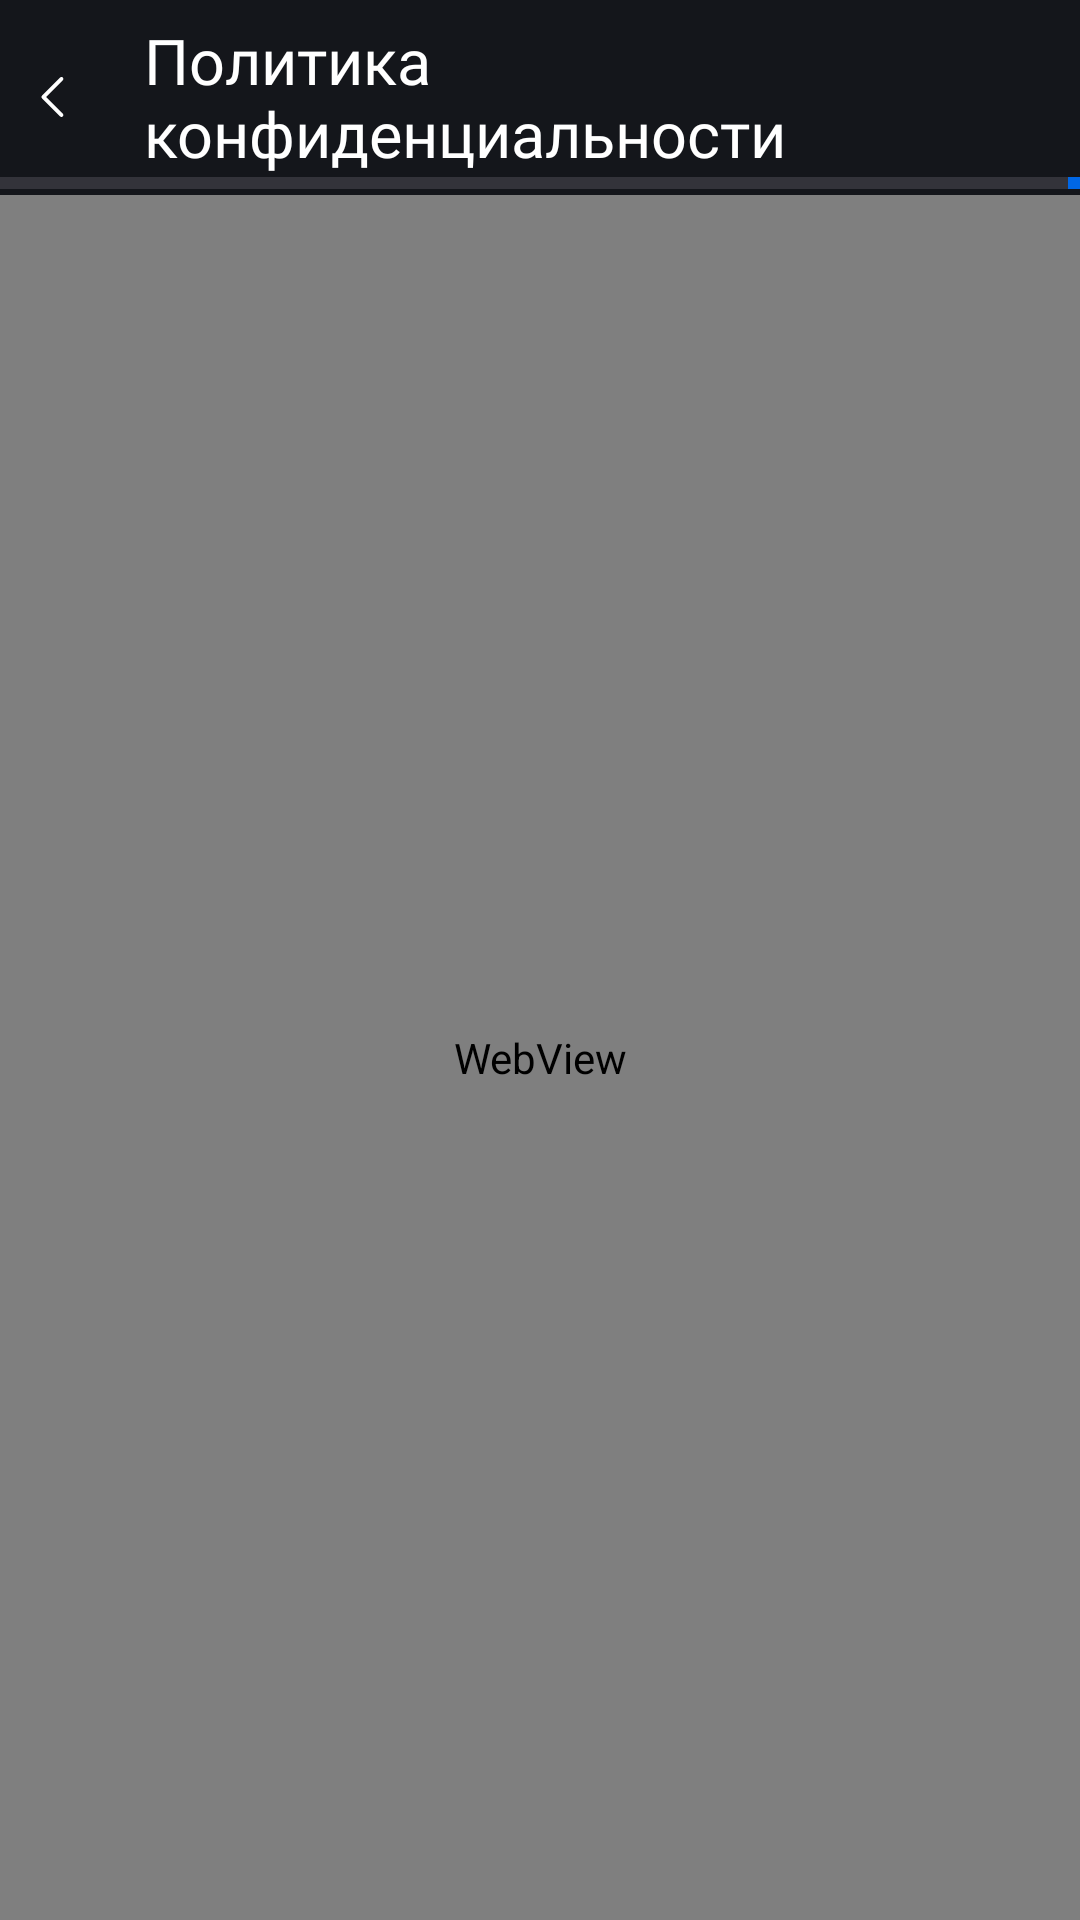

Locate icon controls on the screen. Image size 1080w x 1920h, boxes as (x1, y1, x2, y2).
left arrow: (41, 77, 64, 117)
